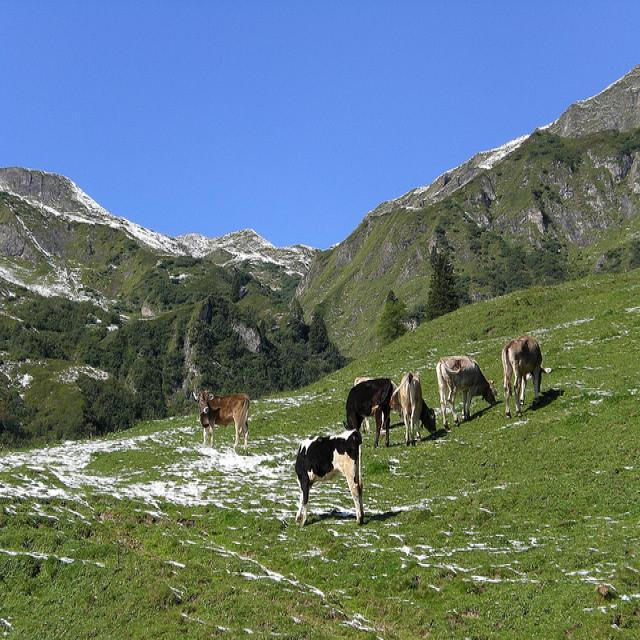cow: (293, 428, 362, 528), (435, 354, 496, 430), (338, 371, 393, 453), (500, 332, 551, 416), (190, 388, 249, 451), (393, 371, 436, 447)
